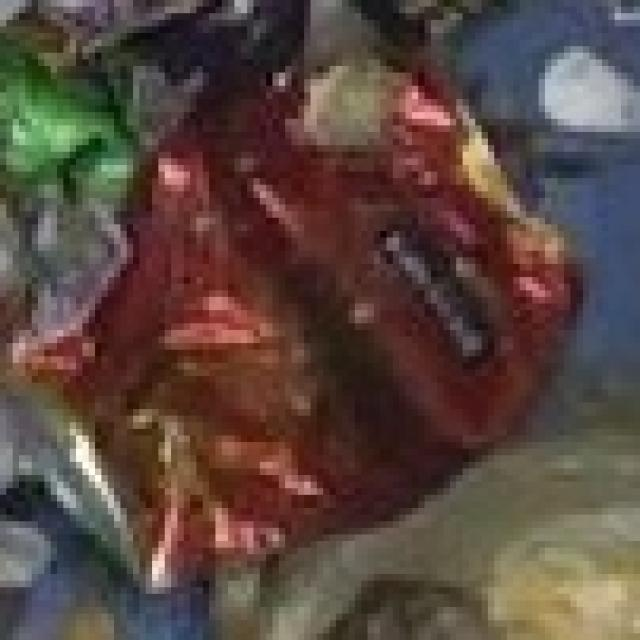can: (0, 3, 640, 609)
